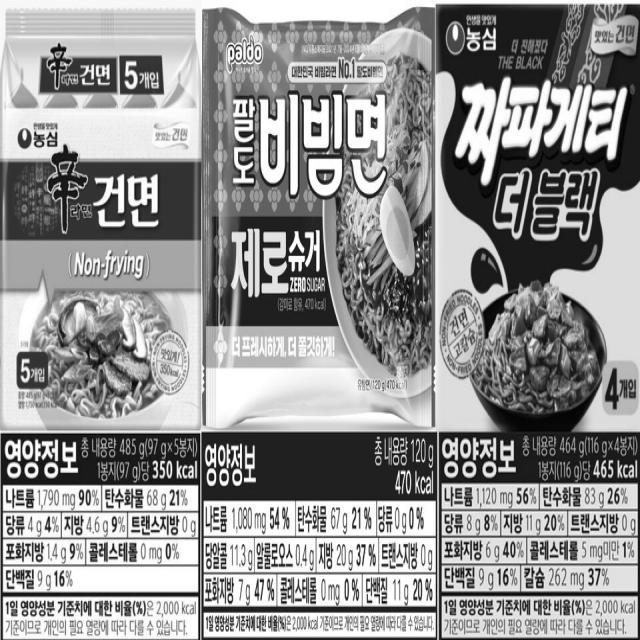Nutrition Label: (0, 428, 203, 640)
